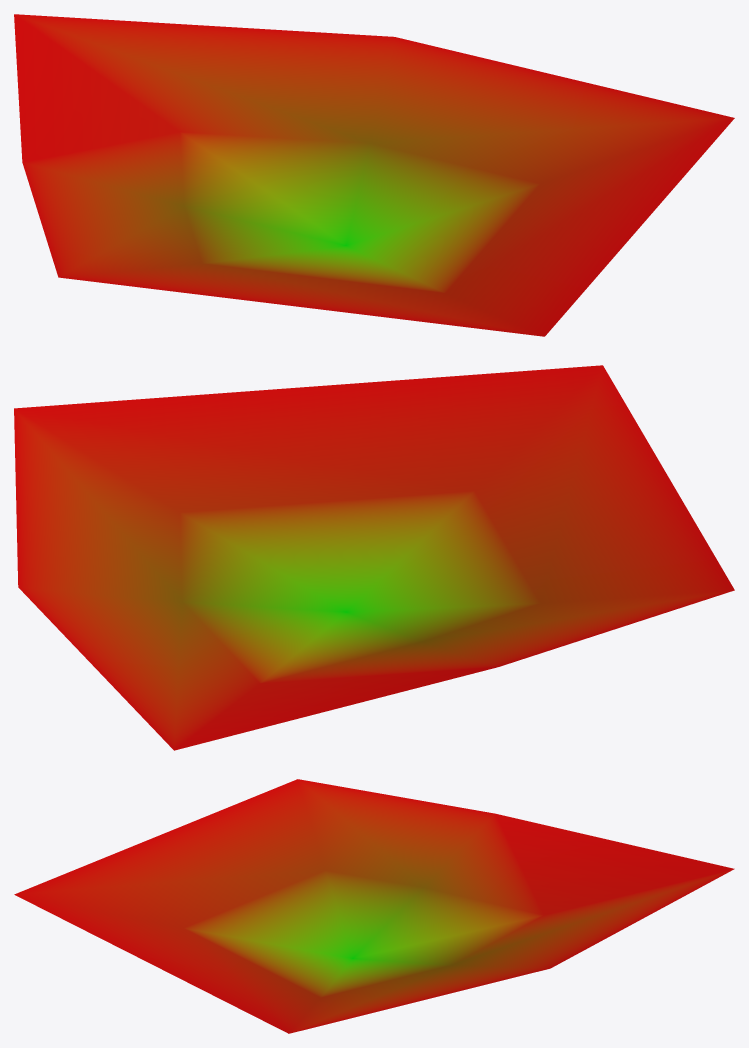
The model's file is Var28_LOD3.fbx.
3 renders of one model, top to bottom at view 1: azimuth 30°, elevation 25°; view 2: azimuth 150°, elevation 25°; view 3: azimuth 270°, elevation 25°, orthographic. The views are drawn at different scales.
Visible parts, largest first — view 1: _f5ik_Var28_LOD3; view 2: _f5ik_Var28_LOD3; view 3: _f5ik_Var28_LOD3.
Boxes of the visible parts, x1,y1,x2,y2 form: _f5ik_Var28_LOD3: (14,14,734,336); _f5ik_Var28_LOD3: (14,365,734,750); _f5ik_Var28_LOD3: (14,779,734,1033).
Bounding box in the file's own units: 21.84 × 2.27 × 26.12.
